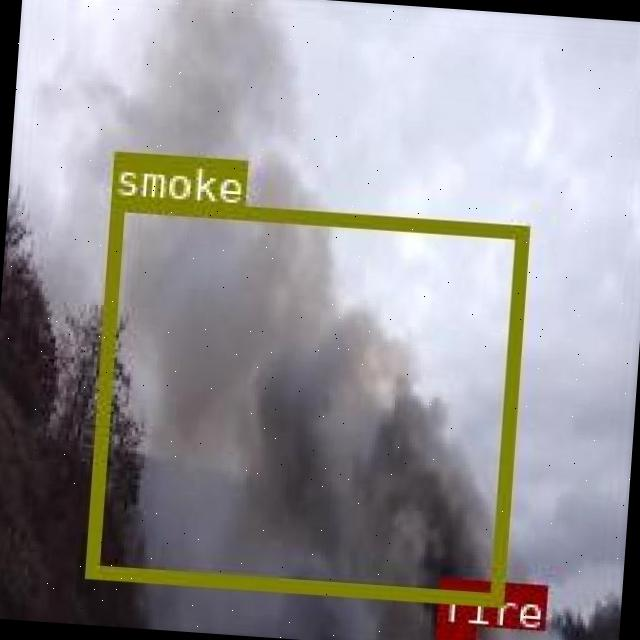fire: (432, 619, 472, 640)
smoke: (83, 196, 526, 604)
